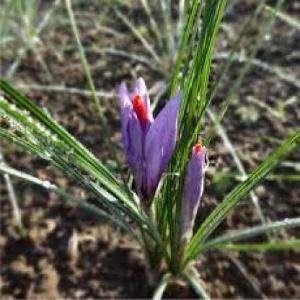Saffron: (119, 77, 184, 209), (176, 139, 210, 241)
